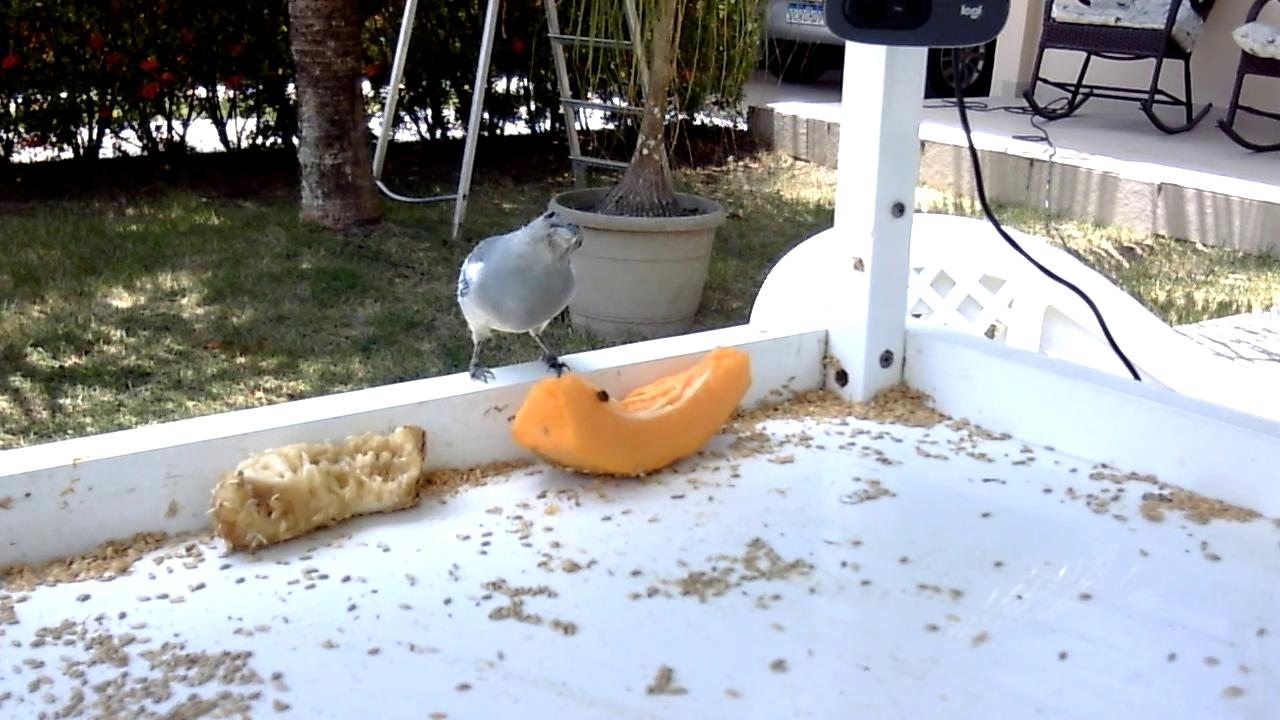sanhaco_da_amazonia: (456, 210, 588, 387)
